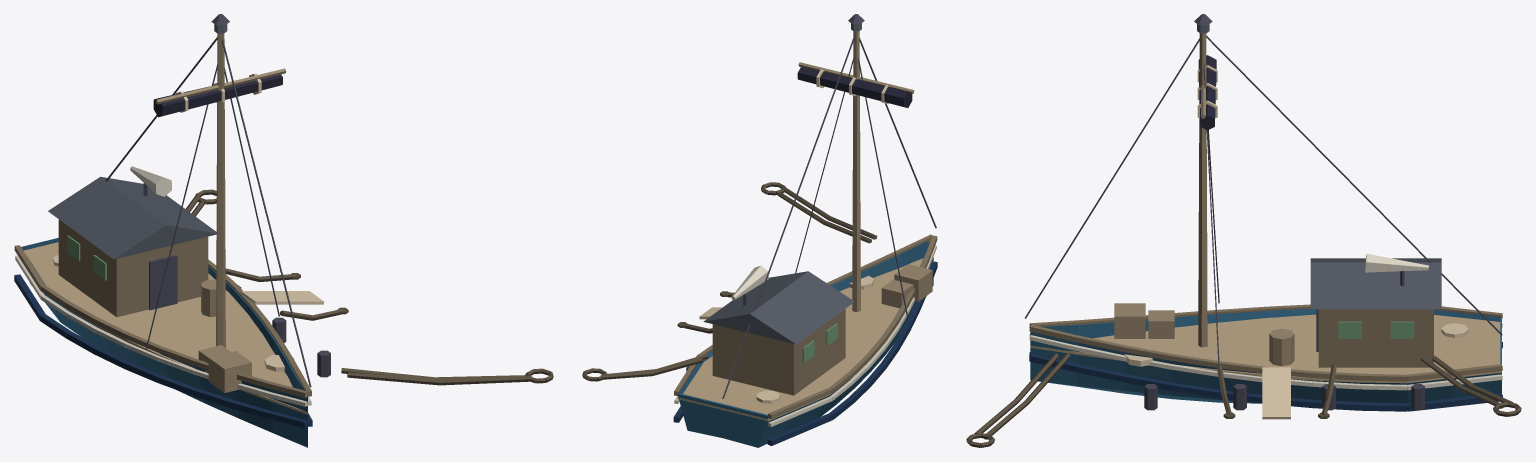
File: ferry_tied.glb
3 views of the same model, side by side, from view 1: azimuth 30°, elevation 25°; view 2: azimuth 150°, elevation 25°; view 3: azimuth 270°, elevation 25° (orthographic). The views are drawn at different scales.
Parts seen in each view (by area): view 1: driftwood_d35, driftwood_d10, slate_d25, tide_d25, driftwood_d25, ink_l20, driftwood_d55, abyss_d10, bone_d10, driftwood_l20, ink_l5; view 2: driftwood_d35, driftwood_d10, slate_d25, tide_d25, driftwood_d25, driftwood_d55, ink_l20, abyss_d10, bone_d10, ink_l5, driftwood_l20, moss_l10; view 3: driftwood_d35, driftwood_d10, tide_d25, slate_d25, driftwood_d25, ink_l20, driftwood_d55, abyss_d10, bone_d10, driftwood_l20, moss_l10, ink_l5.
Part boxes in pixels (left/top/right/bottom): driftwood_d35: left=14, top=219, right=311, bottom=397; driftwood_d10: left=23, top=242, right=307, bottom=414; slate_d25: left=48, top=176, right=216, bottom=259; tide_d25: left=21, top=238, right=307, bottom=447; driftwood_d25: left=155, top=33, right=285, bottom=392; ink_l20: left=105, top=14, right=330, bottom=387; driftwood_d55: left=186, top=189, right=553, bottom=385; abyss_d10: left=14, top=274, right=312, bottom=428; bone_d10: left=15, top=166, right=311, bottom=406; driftwood_l20: left=53, top=73, right=323, bottom=371; ink_l5: left=153, top=74, right=282, bottom=117; driftwood_d35: left=674, top=234, right=937, bottom=419; driftwood_d10: left=677, top=258, right=923, bottom=421; slate_d25: left=703, top=271, right=854, bottom=344; tide_d25: left=677, top=241, right=933, bottom=447; driftwood_d25: left=798, top=31, right=932, bottom=312; driftwood_d55: left=582, top=182, right=877, bottom=381; ink_l20: left=686, top=14, right=936, bottom=398; abyss_d10: left=673, top=261, right=937, bottom=445; bone_d10: left=674, top=245, right=936, bottom=426; ink_l5: left=797, top=67, right=912, bottom=107; driftwood_l20: left=699, top=69, right=888, bottom=403; moss_l10: left=802, top=323, right=837, bottom=362; driftwood_d35: left=1029, top=304, right=1502, bottom=381; driftwood_d10: left=1030, top=314, right=1501, bottom=383; tide_d25: left=1030, top=308, right=1501, bottom=403; slate_d25: left=1310, top=258, right=1441, bottom=309; driftwood_d25: left=1114, top=33, right=1294, bottom=366; ink_l20: left=1025, top=14, right=1502, bottom=410; driftwood_d55: left=966, top=353, right=1521, bottom=447; abyss_d10: left=1029, top=342, right=1502, bottom=411; bone_d10: left=1029, top=254, right=1502, bottom=390; driftwood_l20: left=1124, top=65, right=1468, bottom=419; moss_l10: left=1338, top=321, right=1414, bottom=338; ink_l5: left=1198, top=55, right=1216, bottom=130.
Size of the model in its own units: 6.46 by 8.19 by 10.6.
